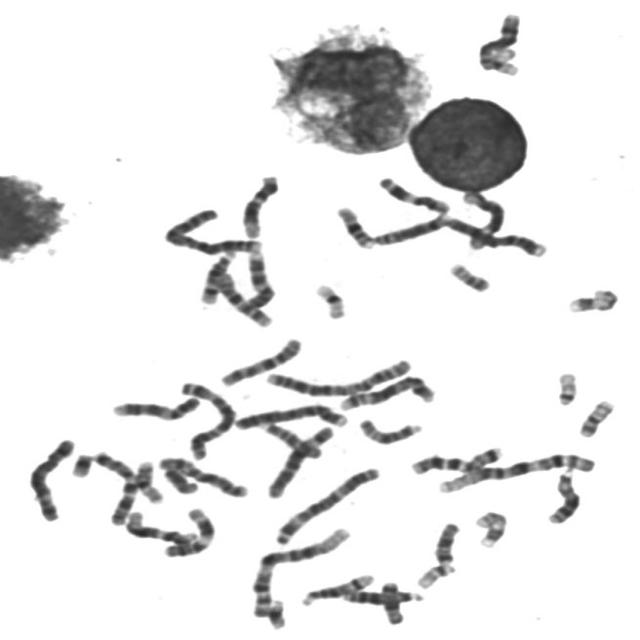A1: (245, 523, 354, 619), (432, 448, 598, 496)
A2: (262, 353, 414, 399), (159, 205, 264, 256)
A3: (270, 462, 384, 546), (175, 376, 240, 461)
B4: (408, 212, 550, 259), (230, 399, 350, 432)
B5: (22, 434, 78, 523), (335, 372, 438, 412)
C10: (216, 334, 304, 389), (210, 268, 275, 329)
C11: (372, 172, 453, 216), (158, 503, 219, 559)
C12: (237, 170, 282, 239), (121, 507, 198, 546)
C6: (262, 421, 336, 500), (458, 188, 508, 250)
C7: (88, 446, 141, 527), (405, 442, 506, 477)
C8: (370, 212, 452, 246), (478, 12, 522, 71)
C9: (106, 393, 203, 422), (240, 247, 277, 310)
D13: (542, 466, 582, 525), (338, 585, 426, 607)
D14: (296, 569, 376, 608), (194, 246, 239, 306)
D15: (256, 418, 326, 461), (354, 414, 426, 446)
E16: (331, 202, 376, 250), (130, 457, 166, 505)
E17: (563, 284, 620, 315), (470, 507, 510, 549)
E18: (376, 577, 408, 626), (430, 518, 462, 566)
F19: (310, 280, 348, 320), (489, 47, 522, 78)
F20: (574, 396, 618, 439), (444, 258, 493, 294)
G21: (262, 594, 289, 630), (65, 448, 95, 479)
G22: (412, 559, 458, 590), (550, 367, 580, 407)
X: (153, 453, 251, 499)
Y: (158, 464, 201, 496)
